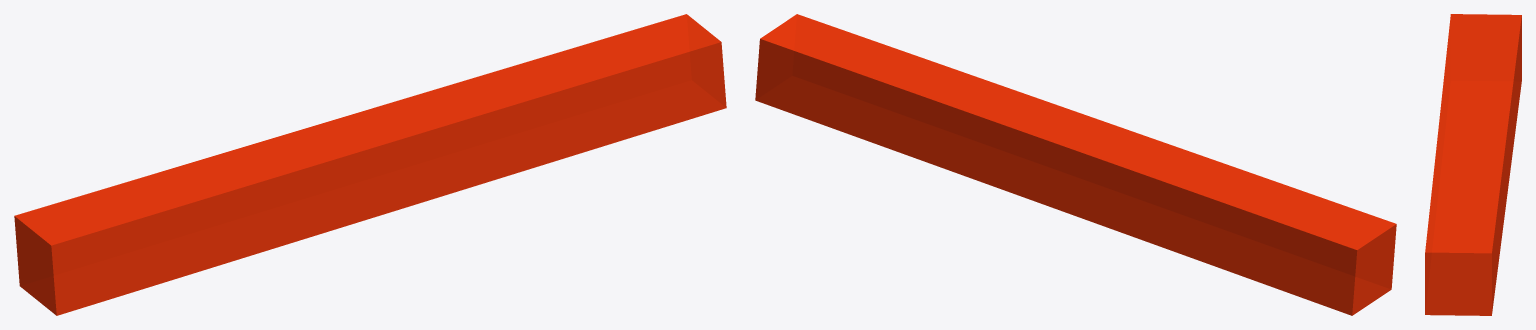
The model's file is Event_421115418_EErechit_49.fbx.
3 renders of one model, left to right at view 1: azimuth 30°, elevation 25°; view 2: azimuth 150°, elevation 25°; view 3: azimuth 270°, elevation 25°, orthographic. The views are drawn at different scales.
Visible parts, largest first — view 1: Model; view 2: Model; view 3: Model.
Boxes of the visible parts, x1,y1,x2,y2 form: Model: (14,14,726,315); Model: (755,14,1396,315); Model: (1425,14,1521,315).
Size of the model in its own units: 0.7459 by 0.1353 by 0.1051.
